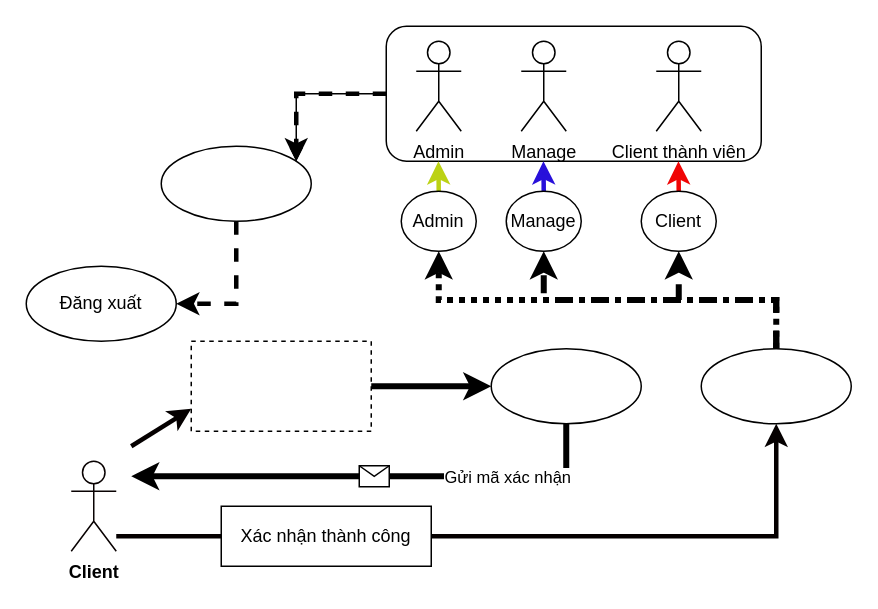
Image size: 878x609. Some labels were removed from this diagram. The shapes that lost their labels are listed below. From the top down, each one's centre as x and y in pixels, then its label:
At (235,183): "Đăng nhập".
At (280,385): "Nhập thông tin".
At (565,385): "Tiếp nhận thông tin".
At (775,385): "Đăng ký".
